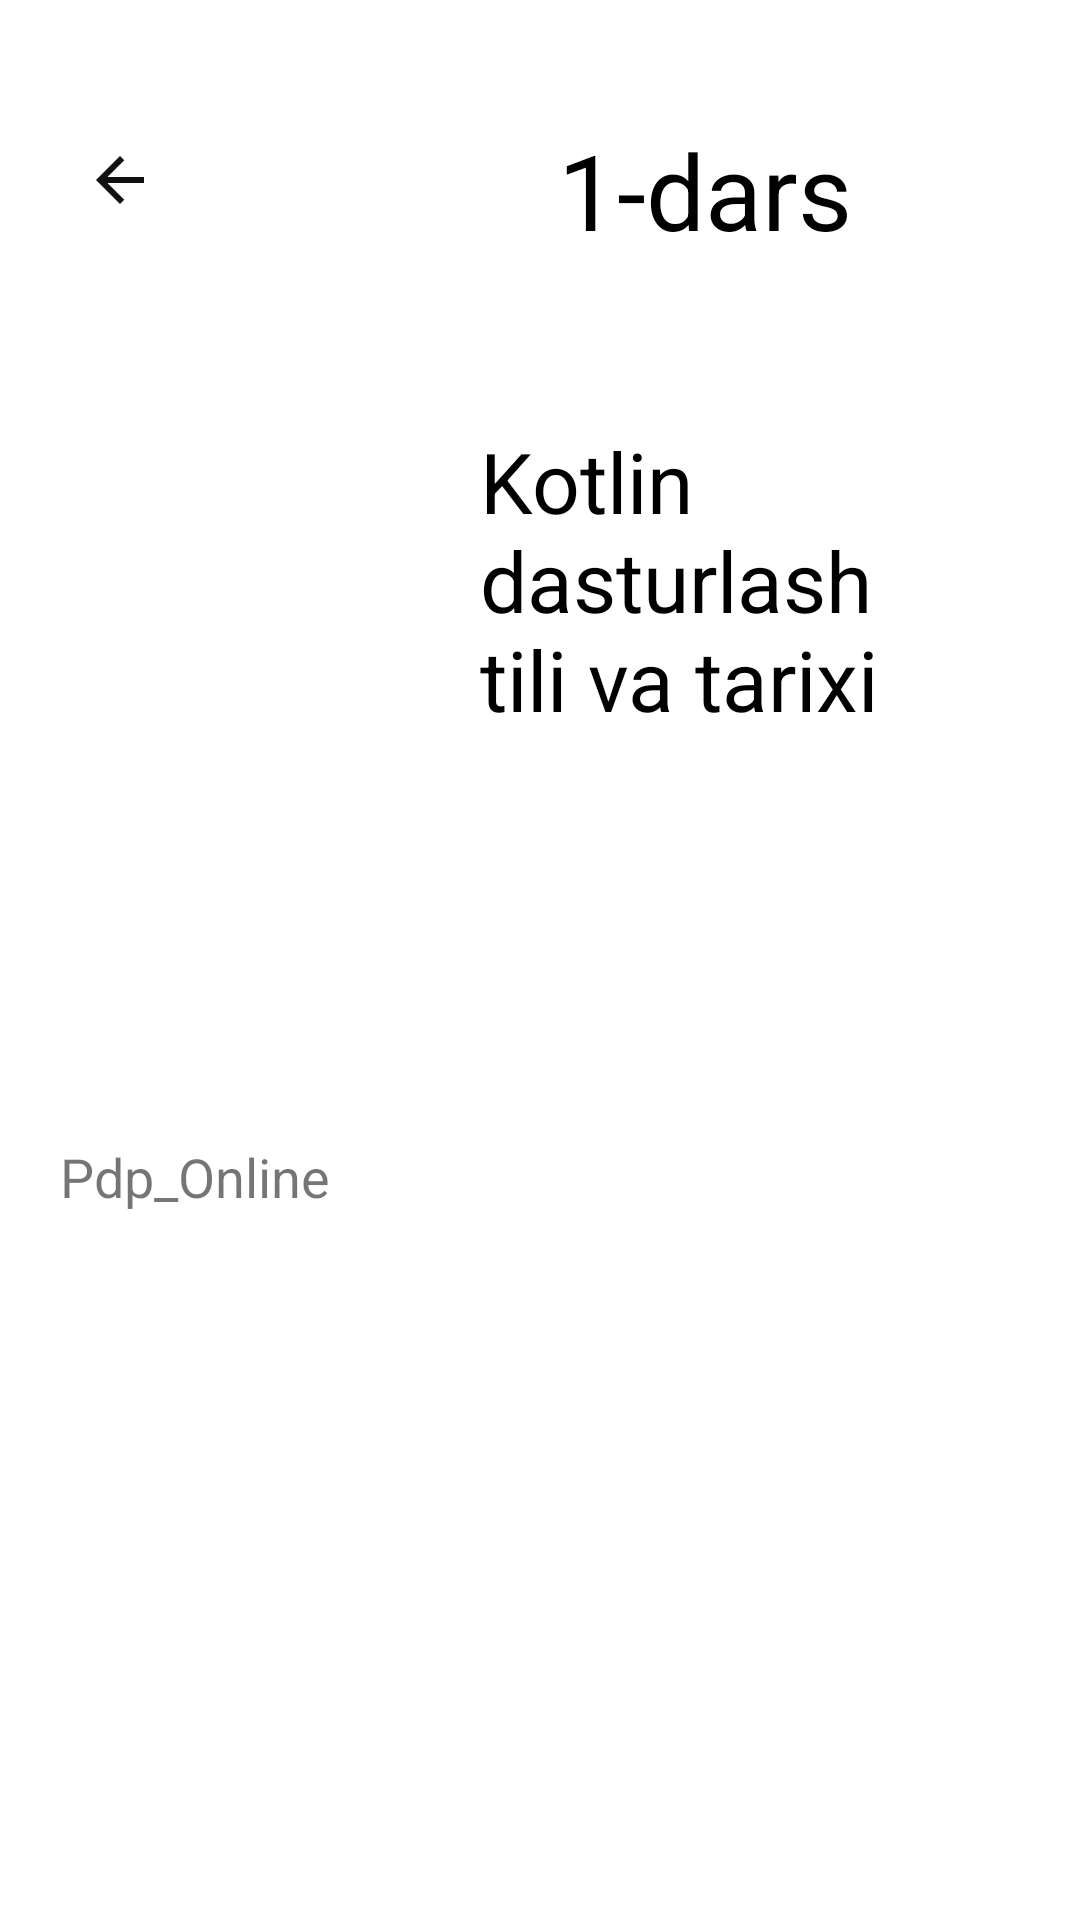

Named icons in this screenshot (1080×1920) and their centers, (x=x, y=y):
arrow back: (x=120, y=180)
